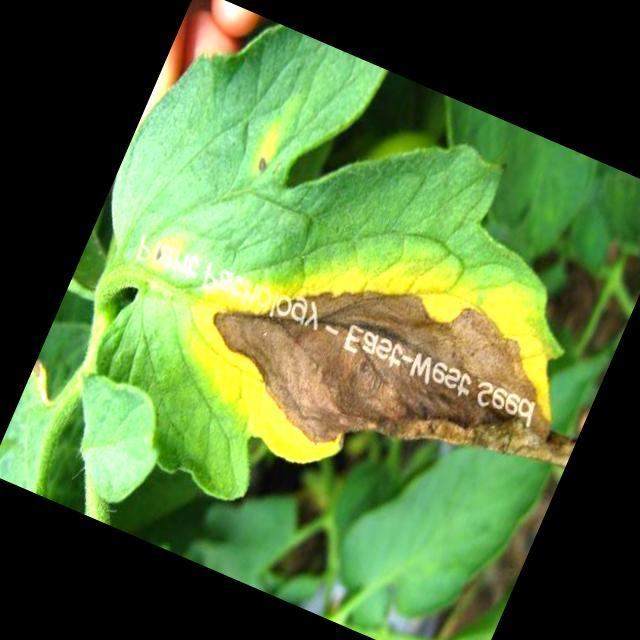Early_blight: (148, 173, 622, 562), (146, 239, 168, 268), (247, 153, 271, 177)
